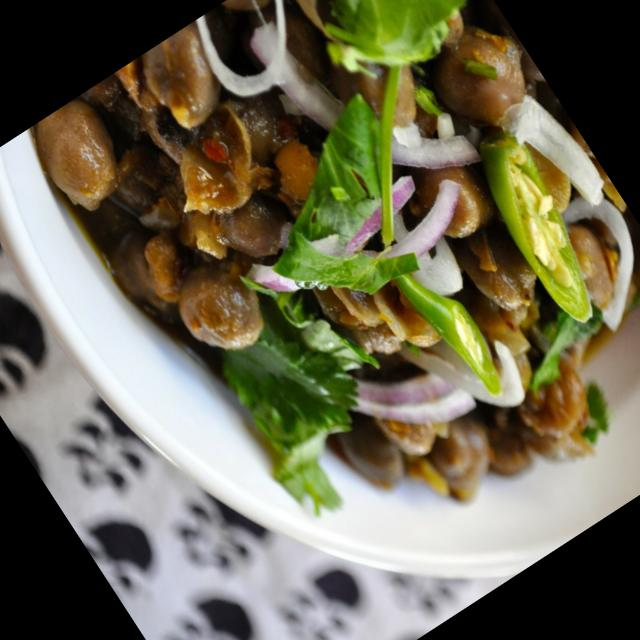Chole: (19, 0, 640, 622)
